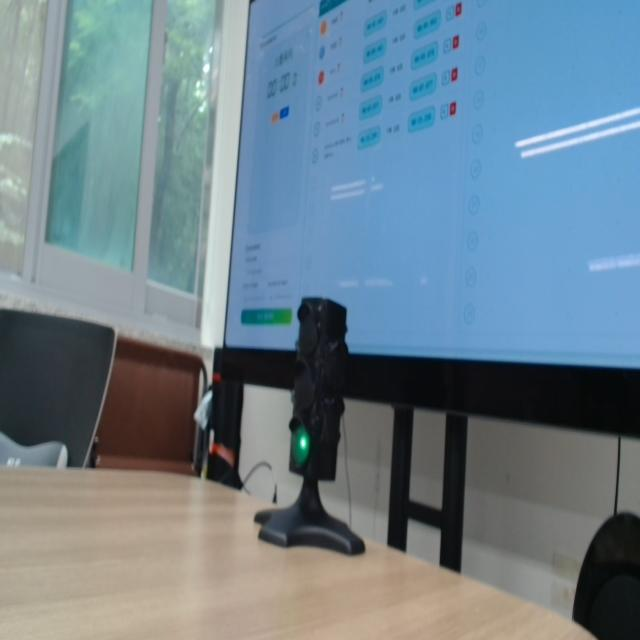green_light: (292, 425, 310, 467)
